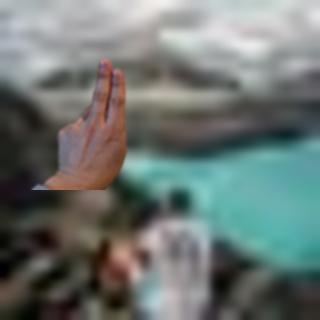DHAVE: (51, 56, 132, 181)
